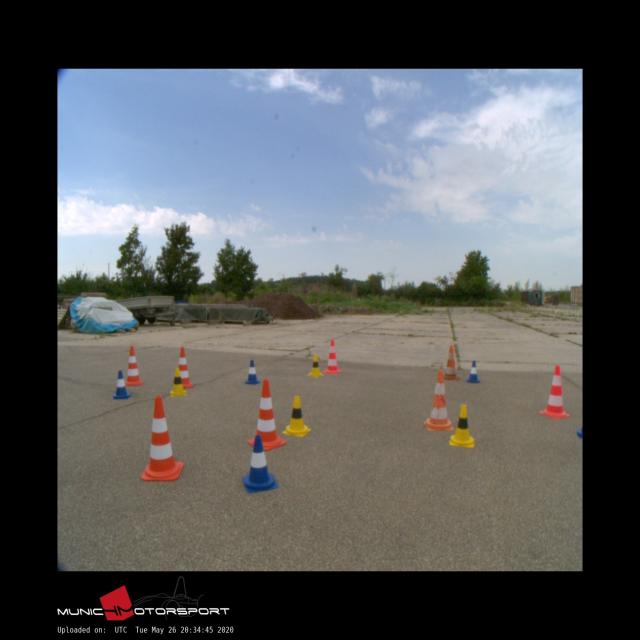blue_cone: (242, 435, 277, 492), (113, 370, 129, 398), (245, 359, 260, 383), (466, 360, 479, 382)
large_orange_cone: (141, 396, 182, 480), (247, 379, 285, 449), (423, 370, 452, 429), (539, 365, 570, 417), (125, 345, 142, 385), (176, 347, 193, 387), (323, 339, 340, 373), (444, 345, 459, 379)
yellow_cone: (282, 396, 310, 436), (448, 404, 474, 446), (169, 368, 186, 395), (308, 354, 323, 376)
